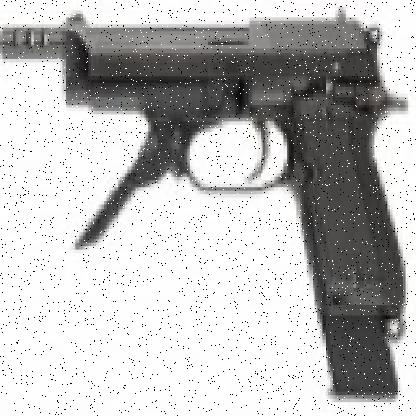pistol: (57, 7, 408, 329)
